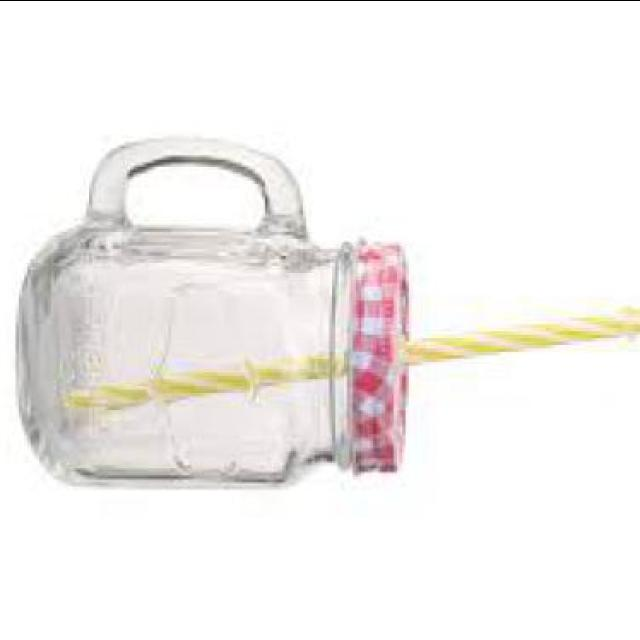kaca: (20, 144, 358, 484)
